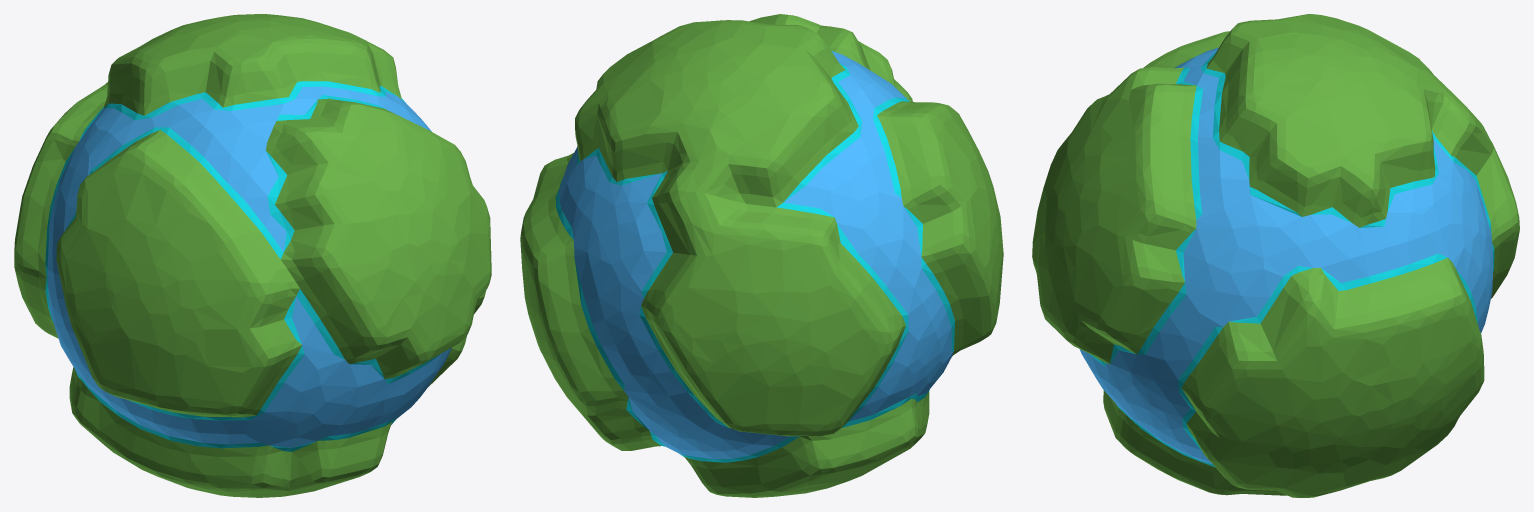
Rendered from Planet.fbx.
The picture shows the model from 3 angles, left to right: view 1: azimuth 30°, elevation 25°; view 2: azimuth 150°, elevation 25°; view 3: azimuth 270°, elevation 25°; orthographic projection.
Parts seen in each view (by area): view 1: Icosphere; view 2: Icosphere; view 3: Icosphere.
Boxes of the visible parts, box(x1,y1,x2,y2) form: Icosphere: box(14, 14, 491, 497); Icosphere: box(520, 14, 1003, 497); Icosphere: box(1032, 14, 1519, 497).
Bounding box in the file's own units: 447 × 451 × 449.
